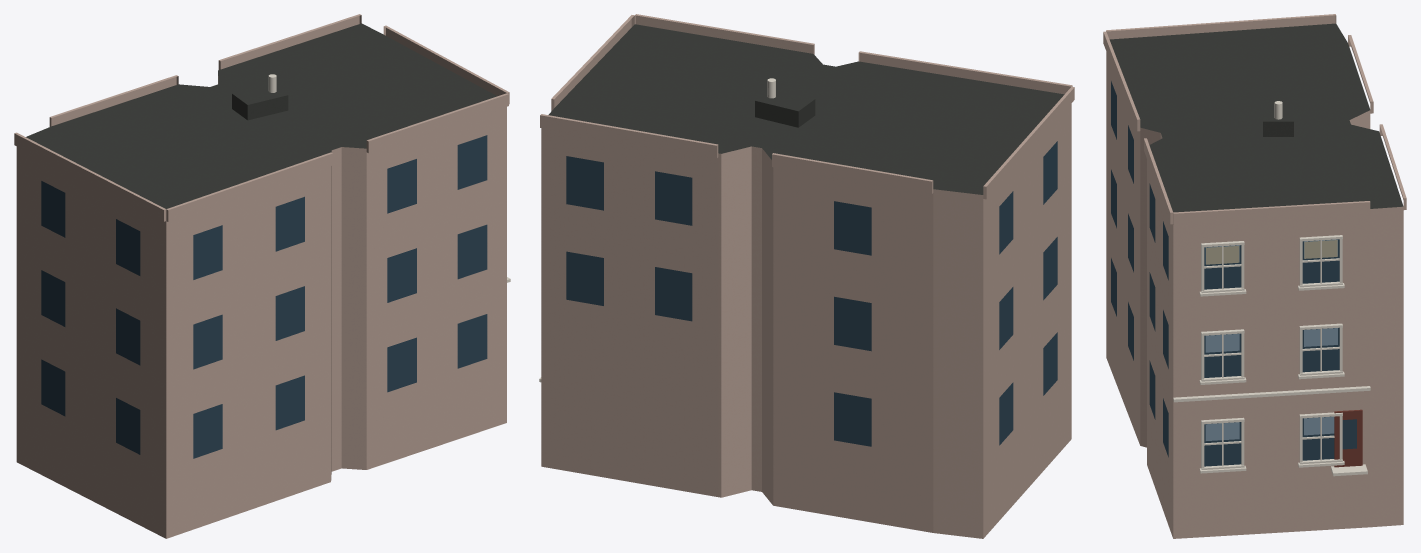
The picture shows the model from 3 angles, left to right: view 1: azimuth 30°, elevation 25°; view 2: azimuth 150°, elevation 25°; view 3: azimuth 270°, elevation 25°; orthographic projection. The views are drawn at different scales.
Visible parts, largest first — view 1: Footprint 0 / surface 2, Footprint 0 / surface 1, Inset glazing, Facade bay volumes, Inferred rooftop service enclosure / surface 5, Inferred rooftop service enclosure / surface 3; view 2: Footprint 0 / surface 2, Footprint 0 / surface 1, Inset glazing, Facade bay volumes, Inferred rooftop service enclosure / surface 6, Inferred rooftop service enclosure / surface 3; view 3: Footprint 0 / surface 2, Footprint 0 / surface 1, Inset glazing, Cornices and window frames, Facade bay volumes, Sky reflection panels, Interior blind variation, Storefronts and doors, Inferred rooftop service enclosure / surface 3, Inferred rooftop service enclosure / surface 1.
Part boxes in pixels (x1,y1,x2,y2): Footprint 0 / surface 2: (16,76,506,538); Footprint 0 / surface 1: (26,23,496,208); Inset glazing: (41,135,487,458); Facade bay volumes: (14,14,509,221); Inferred rooftop service enclosure / surface 5: (247,95,288,120); Inferred rooftop service enclosure / surface 3: (232,84,287,104); Footprint 0 / surface 2: (541,103,1071,538); Footprint 0 / surface 1: (548,24,1064,194); Inset glazing: (566,141,1057,446); Facade bay volumes: (540,14,1074,199); Inferred rooftop service enclosure / surface 6: (755,101,798,127); Inferred rooftop service enclosure / surface 3: (755,89,814,111); Footprint 0 / surface 2: (1106,52,1403,538); Footprint 0 / surface 1: (1109,23,1403,212); Inset glazing: (1111,81,1356,466); Cornices and window frames: (1173,235,1370,476); Facade bay volumes: (1103,14,1406,225); Sky reflection panels: (1205,239,1337,440); Interior blind variation: (1206,240,1337,264); Storefronts and doors: (1334,409,1362,467); Inferred rooftop service enclosure / surface 3: (1263,102,1293,121); Inferred rooftop service enclosure / surface 1: (1263,121,1293,136).
Size of the model in its own units: 18.32 by 14.86 by 11.72.
